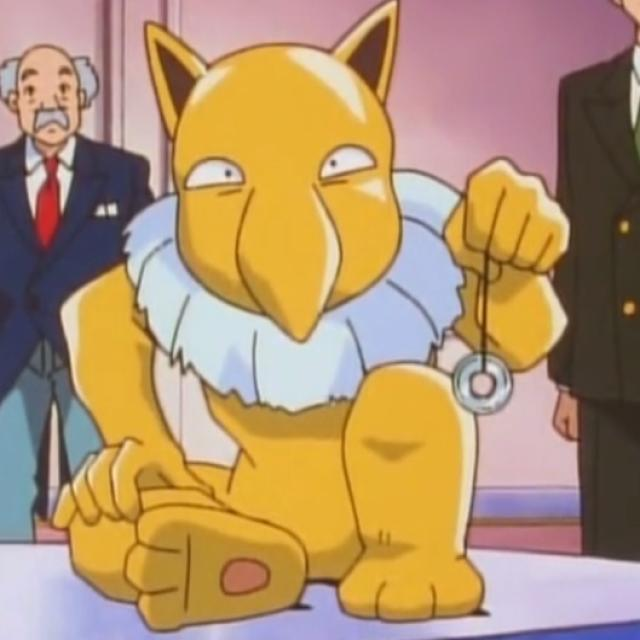Hypno: (91, 2, 554, 627)
